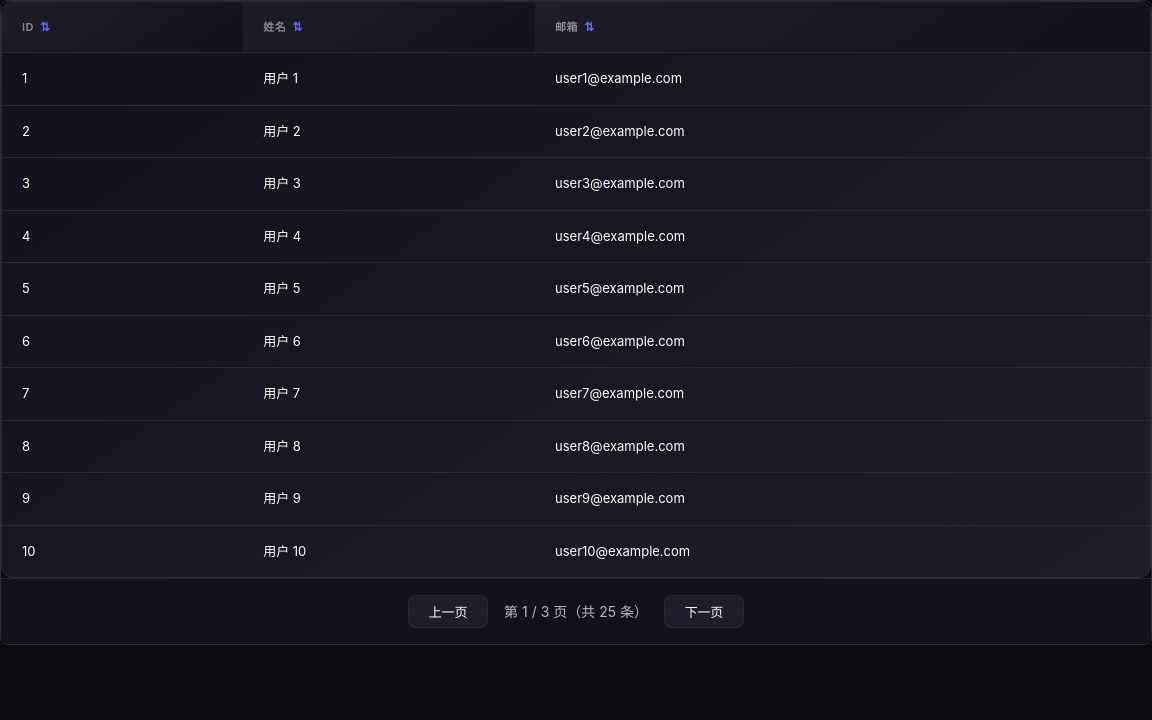
Scenario: DataTable › 分页功能 › 最后一页时下一页按钮应该被禁用
#  切换到最后一页
Step 1. Click the button "下一页" → coordinates (704, 612), box [664,595,744,628]
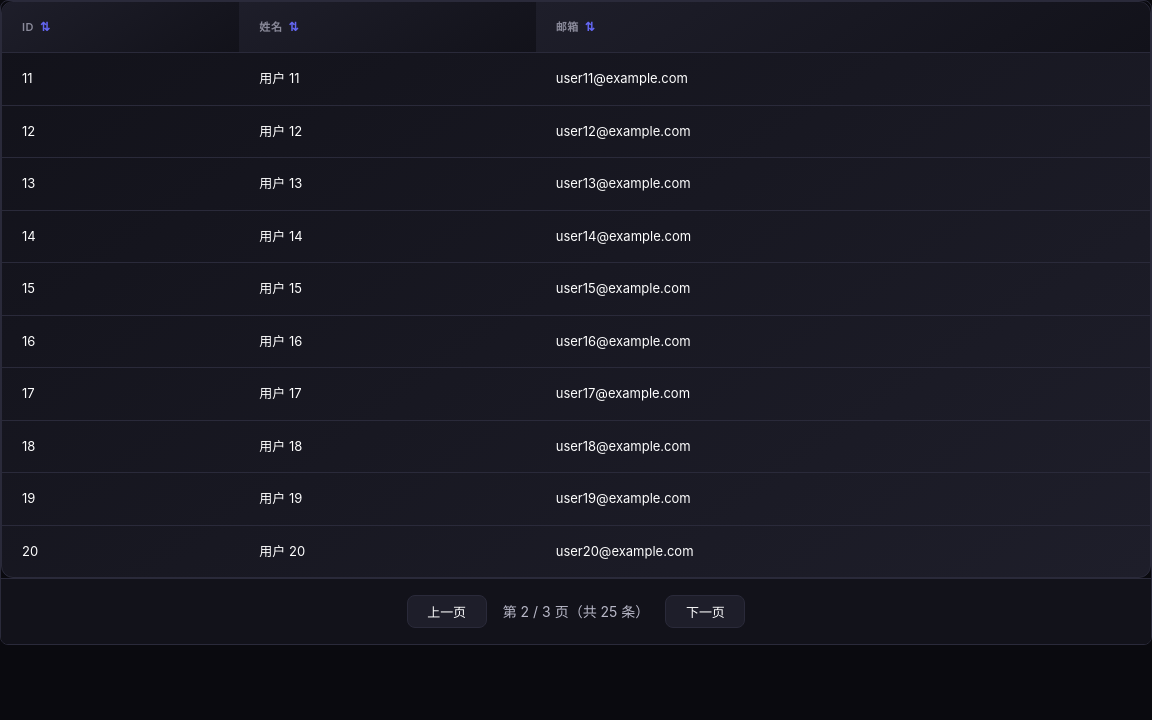
Step 2. Click the button "下一页" → coordinates (705, 612), box [665,595,745,628]
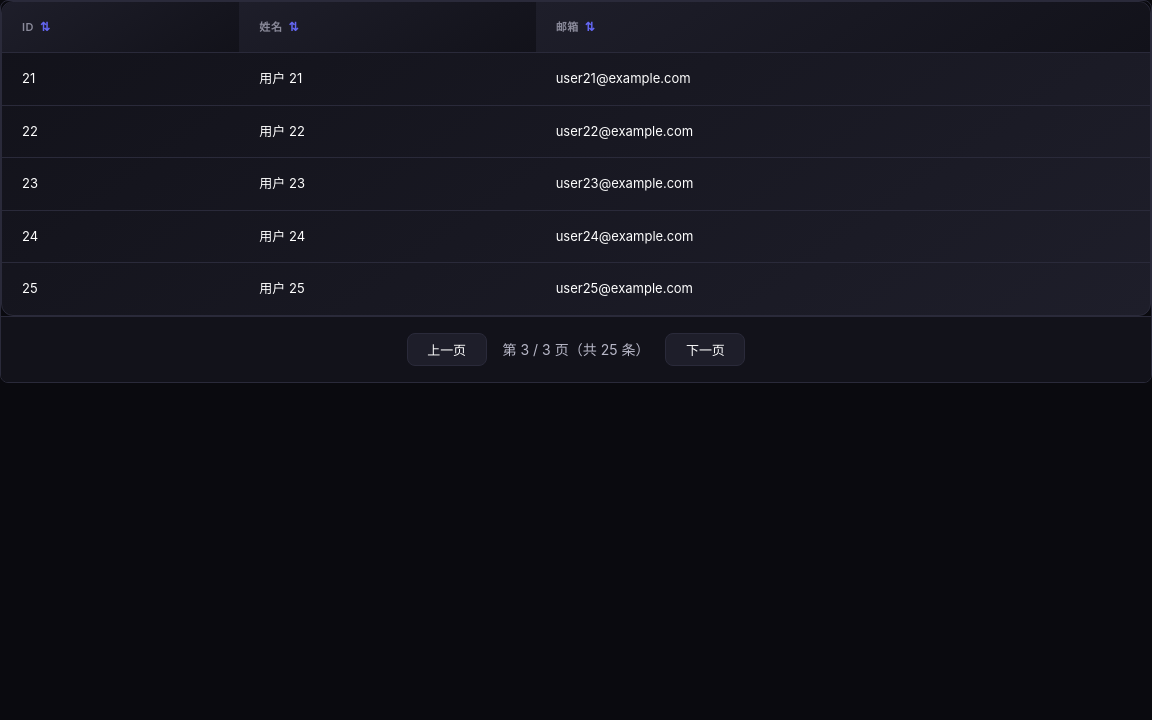
Result: the button "下一页" is disabled at [665,332,745,366]
